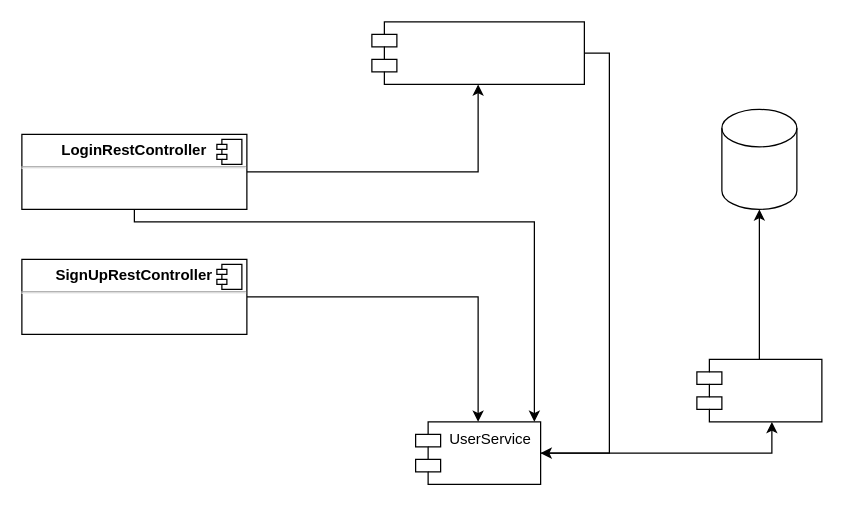
The diagram is 845 pixels wide and 506 high, and some of its shapes have lost their labels. Each missing label, with the box of its shape:
UserDetailsServiceImpl: (371, 21, 584, 84)
UserRepository: (696, 358, 822, 422)
